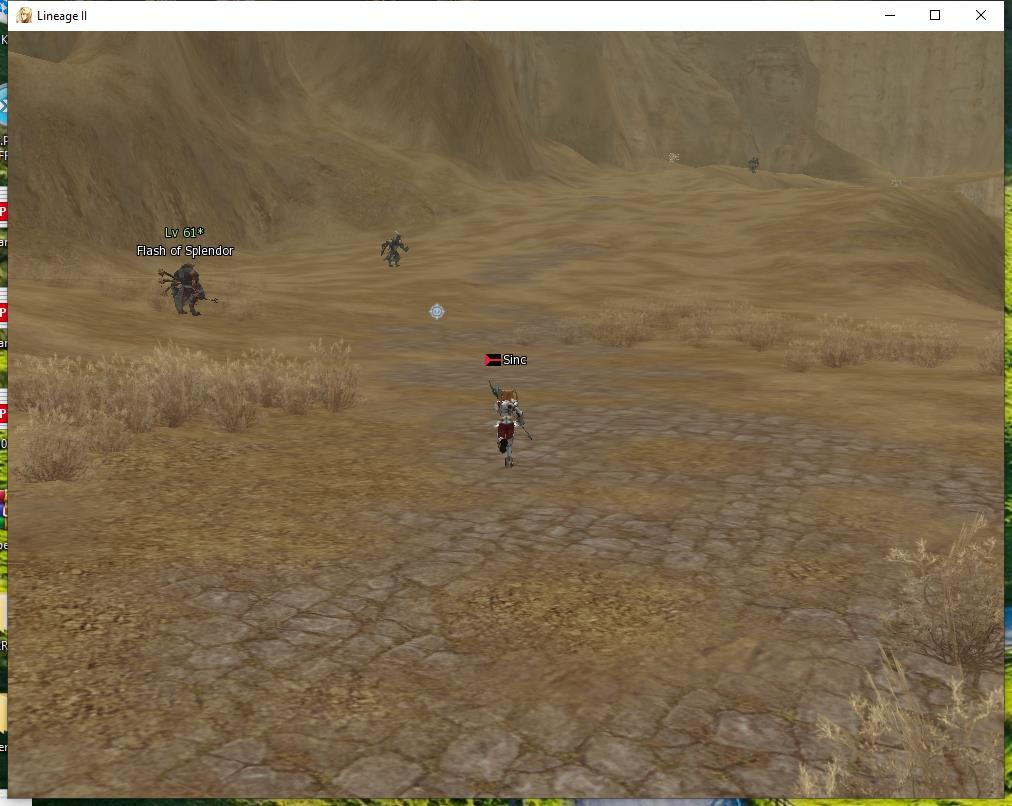monster: (135, 221, 237, 329), (367, 213, 422, 272), (749, 149, 767, 182)
